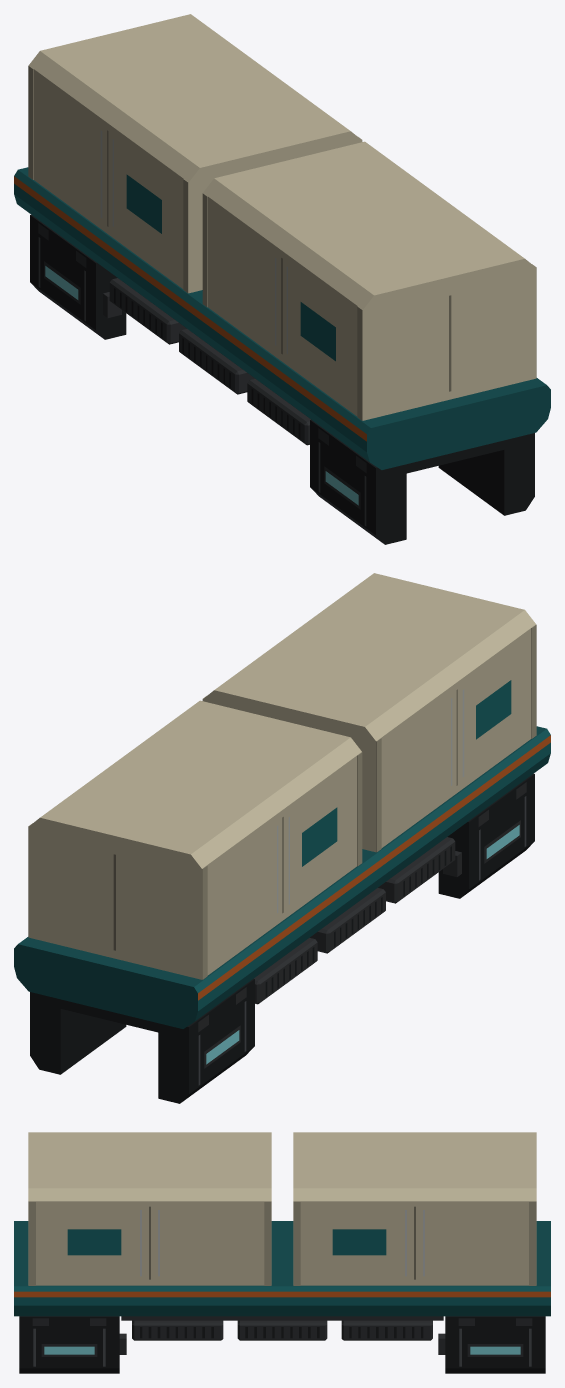
The model's file is city-freight.glb.
The picture shows the model from 3 angles, top to bottom: view 1: azimuth 30°, elevation 25°; view 2: azimuth 150°, elevation 25°; view 3: azimuth 270°, elevation 25°; orthographic projection. The views are drawn at different scales.
Parts seen in each view (by area): view 1: city-freight; view 2: city-freight; view 3: city-freight.
Part boxes in pixels (box(x1,y1,x2,y2)): city-freight: box(14, 14, 550, 544); city-freight: box(14, 573, 550, 1103); city-freight: box(14, 1132, 550, 1373).
Size of the model in its own units: 9.02 by 11.55 by 30.
